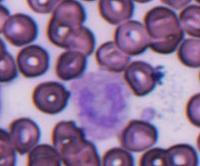N: (73, 73, 131, 136)
